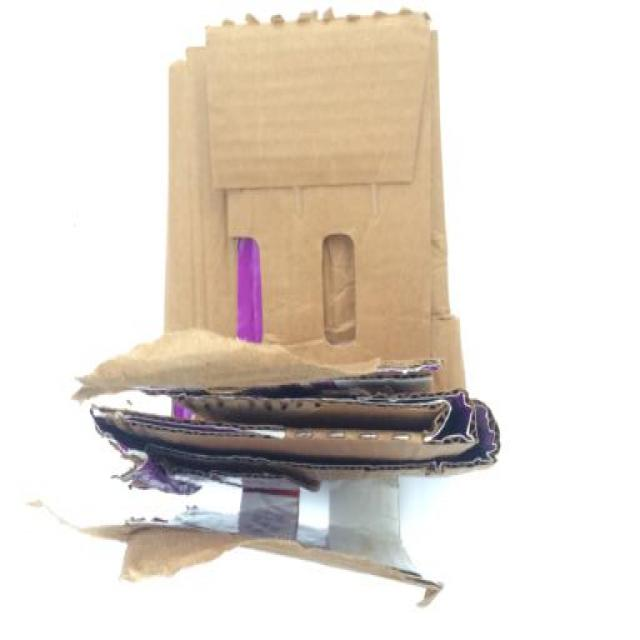cardboard: (49, 3, 539, 625)
